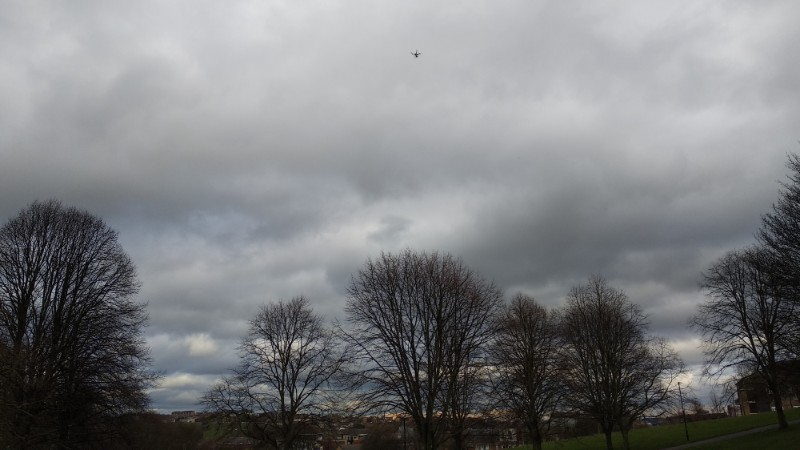drone: (412, 49, 421, 58)
